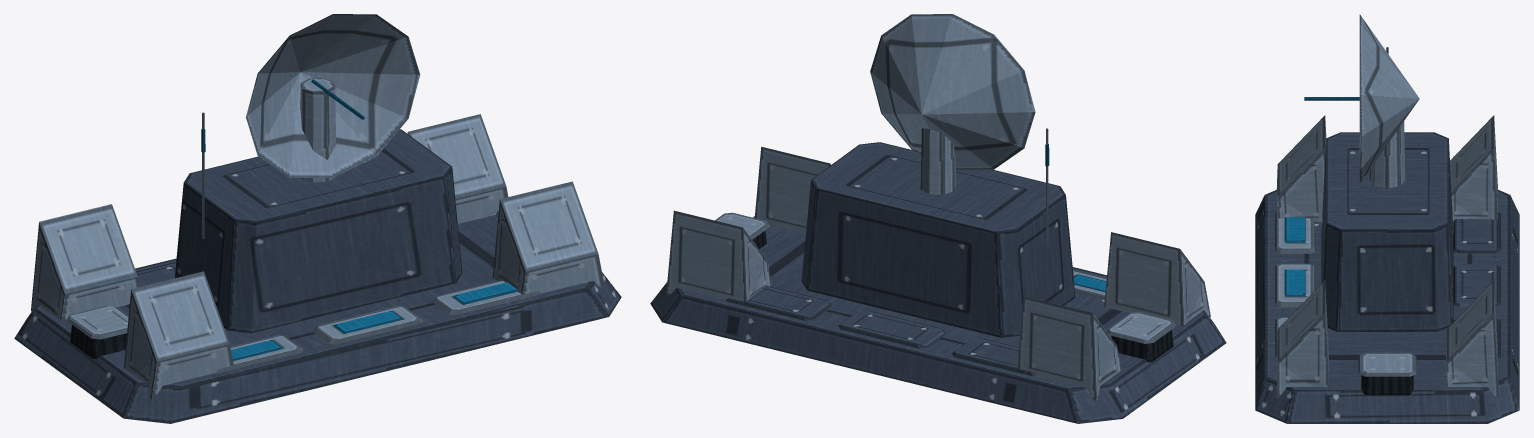
Rendered from building-horizon_radar.fbx.
3 views of the same model, side by side, from view 1: azimuth 30°, elevation 25°; view 2: azimuth 150°, elevation 25°; view 3: azimuth 270°, elevation 25° (orthographic). The views are drawn at different scales.
Visible parts, largest first — view 1: building-horizon_radar; view 2: building-horizon_radar; view 3: building-horizon_radar.
Part boxes in pixels (x1,y1,x2,y2): building-horizon_radar: [14, 14, 621, 423]; building-horizon_radar: [650, 14, 1226, 423]; building-horizon_radar: [1255, 14, 1519, 423].
Size of the model in its own units: 2912 by 1759 by 1456.
Materials: 1 (1 with a texture image).
